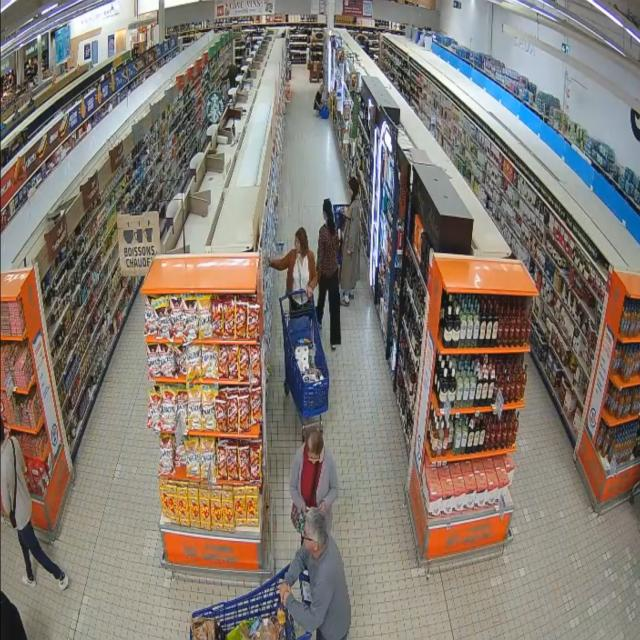bags: (10, 439, 16, 528), (291, 504, 305, 534)
hands: (279, 583, 291, 605), (306, 284, 313, 300), (320, 501, 327, 511), (346, 249, 354, 255), (302, 505, 307, 514), (269, 259, 274, 267)
person: (0, 422, 68, 590), (279, 508, 351, 639), (290, 426, 338, 532), (270, 228, 318, 312), (317, 199, 341, 349), (340, 177, 361, 306)
